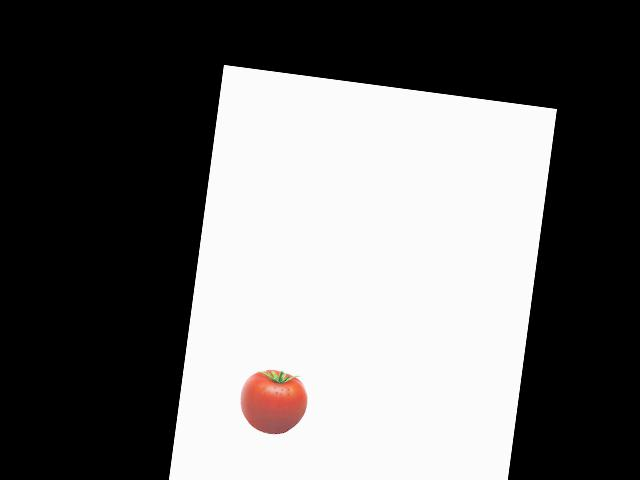tomato: (244, 367, 310, 438)
